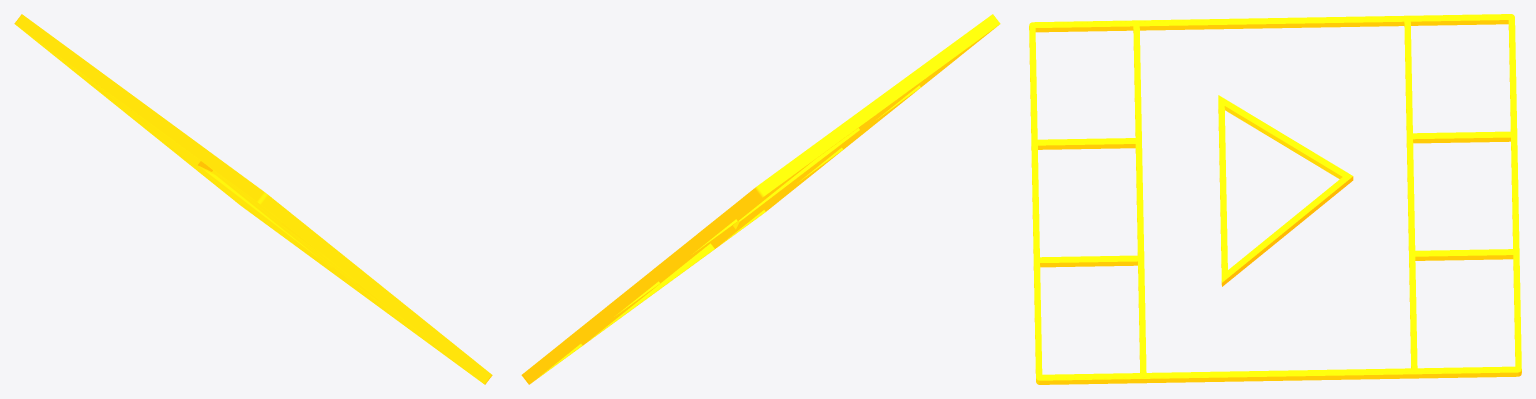
The model's file is podium_video_selected.glb.
3 views of the same model, side by side, from view 1: azimuth 30°, elevation 25°; view 2: azimuth 150°, elevation 25°; view 3: azimuth 270°, elevation 25° (orthographic).
Visible parts, largest first — view 1: Buttons.002; view 2: Buttons.002; view 3: Buttons.002.
Boxes of the visible parts, x1=… form: Buttons.002: x1=14, y1=14, x2=492, y2=384; Buttons.002: x1=521, y1=14, x2=1000, y2=384; Buttons.002: x1=1029, y1=14, x2=1521, y2=384.
Size of the model in its own units: 0.0273 by 0.0273 by 0.0473.
